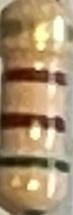Brown: (1, 110, 67, 136), (1, 66, 69, 87)
Green: (2, 154, 69, 176)
Side-Gold: (1, 16, 73, 45)
